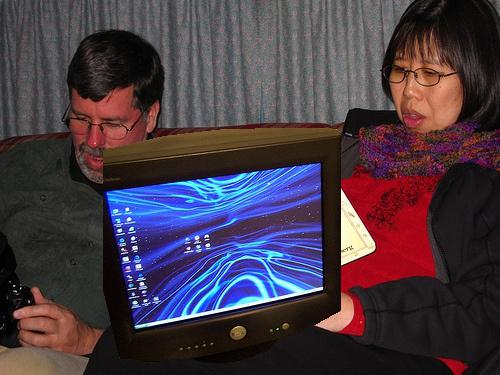tampered: (104, 129, 341, 363)
